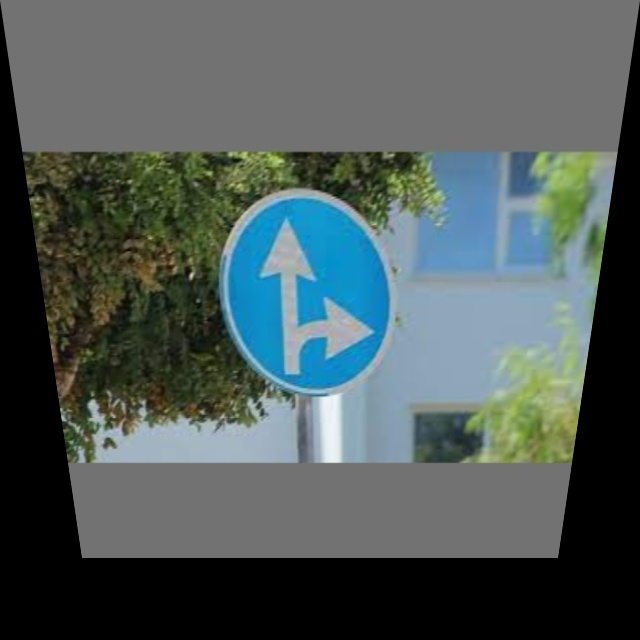Compulsory_Ahead_or_Turn_Right: (216, 188, 400, 399)
